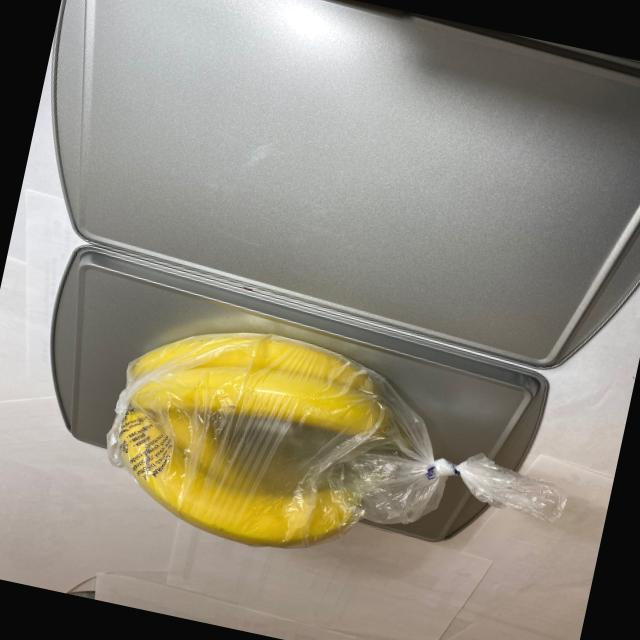banana: (61, 294, 438, 580)
